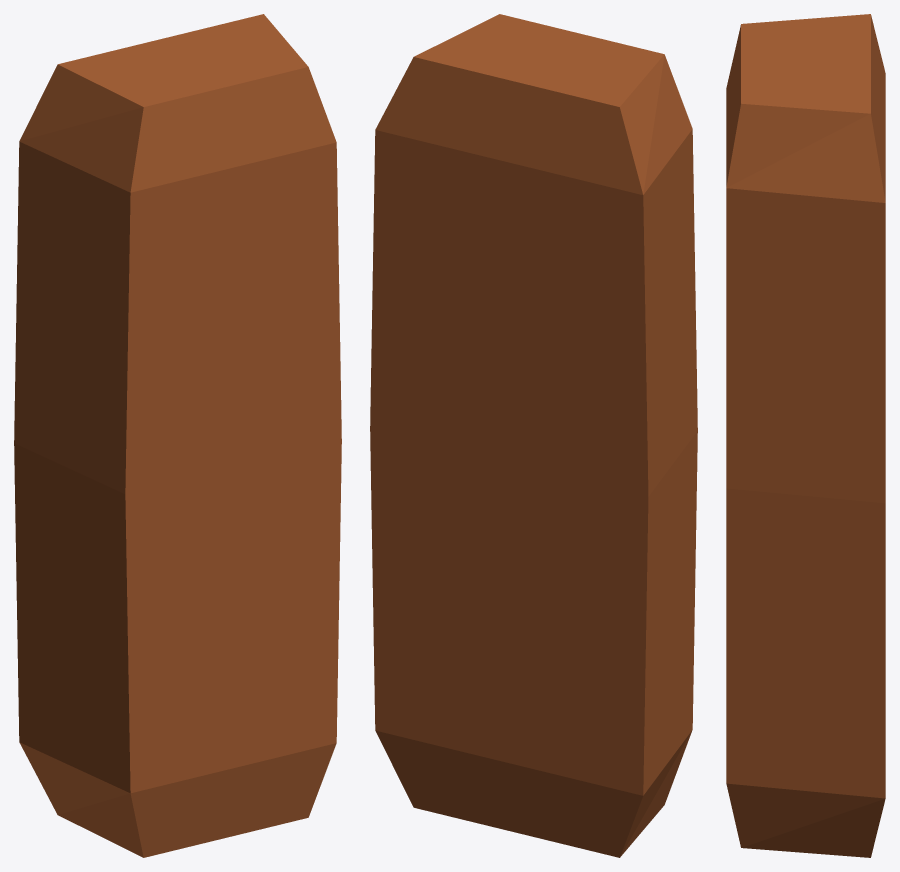
Rendered from copper_ingot.gltf.
The picture shows the model from 3 angles, left to right: view 1: azimuth 30°, elevation 25°; view 2: azimuth 150°, elevation 25°; view 3: azimuth 270°, elevation 25°; orthographic projection.
Parts seen in each view (by area): view 1: copper_ingot; view 2: copper_ingot; view 3: copper_ingot.
Boxes of the visible parts, box(x1,y1,x2,y2) form: copper_ingot: box(14, 14, 341, 857); copper_ingot: box(370, 14, 697, 857); copper_ingot: box(726, 14, 885, 857).
Size of the model in its own units: 0.0962 by 0.248 by 0.0481.
